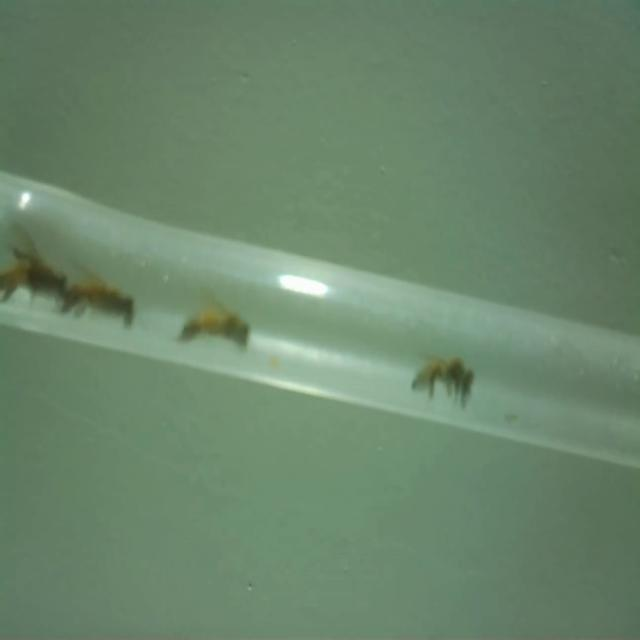Honeybee-Detection: (61, 255, 138, 328), (0, 225, 67, 307), (178, 288, 251, 349), (410, 350, 477, 409)
